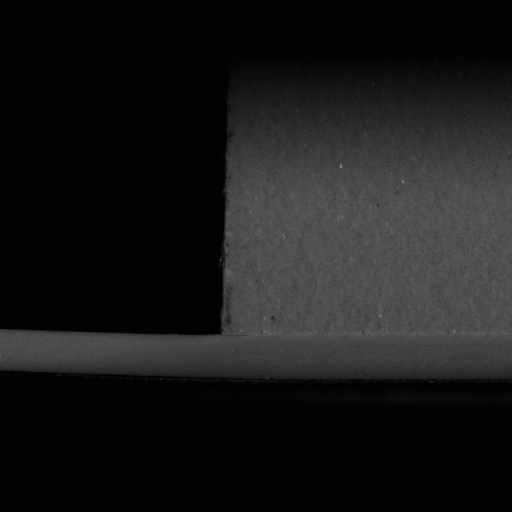changdai: (0, 329, 221, 381)
